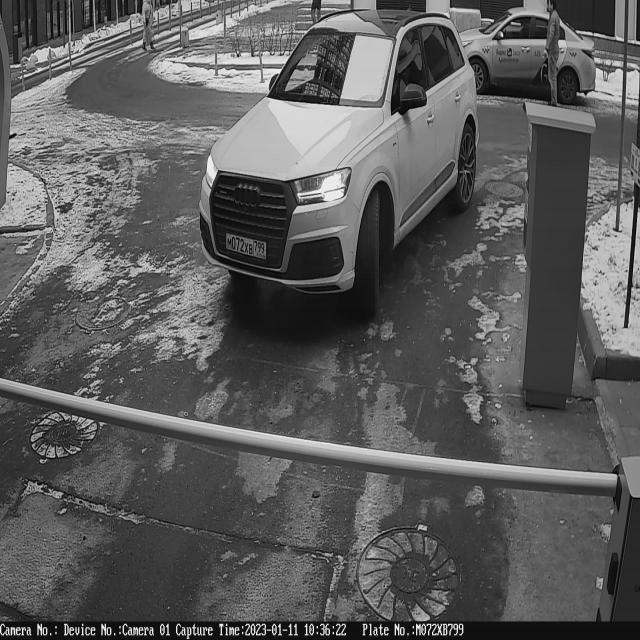car-plate-numbers: (224, 228, 270, 264)
